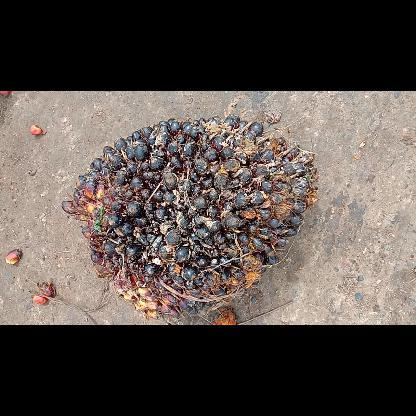TBS mentah: (59, 113, 317, 324)
